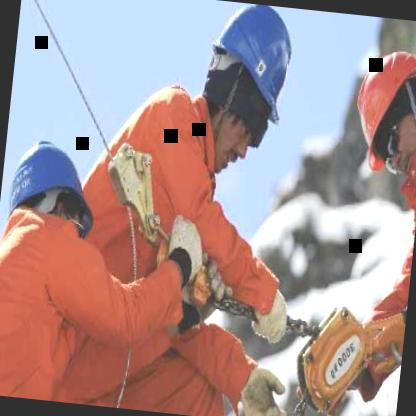helmet: (181, 0, 308, 180), (0, 120, 108, 270), (339, 34, 416, 194)
